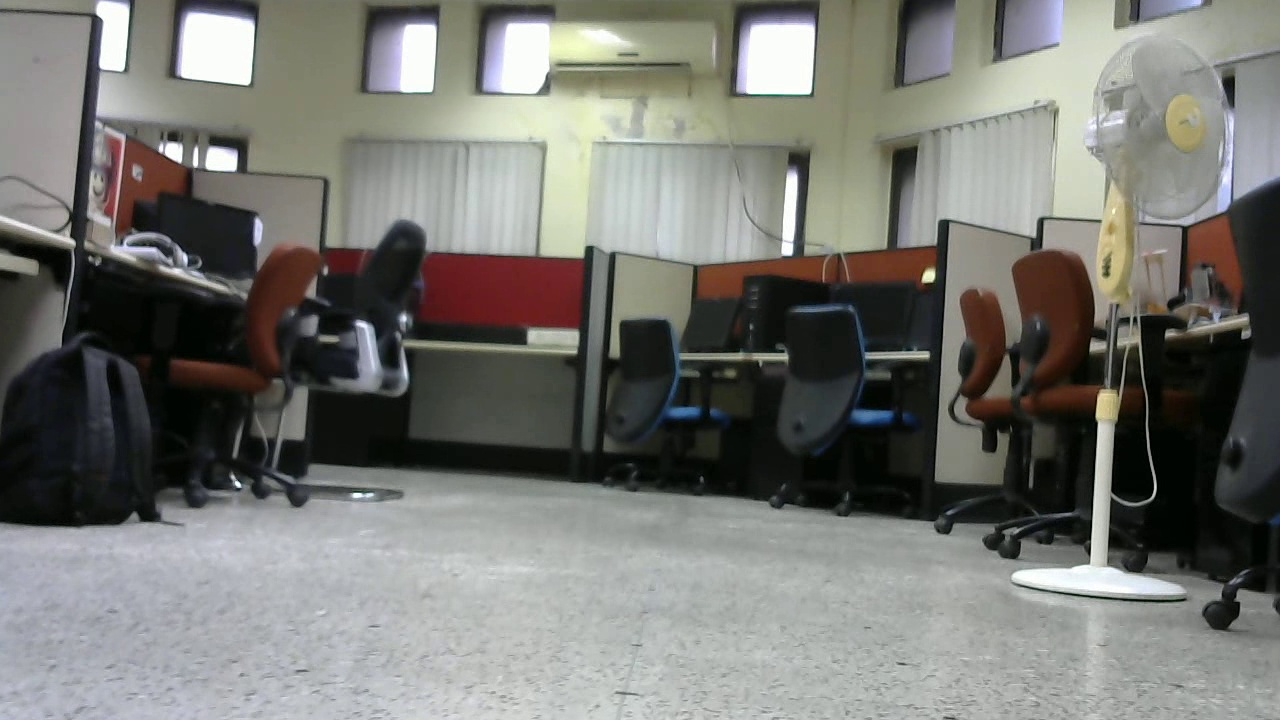chair: (1001, 254, 1156, 566), (154, 236, 294, 510), (303, 218, 430, 506), (761, 305, 930, 519), (943, 287, 1054, 541), (594, 317, 740, 500)
